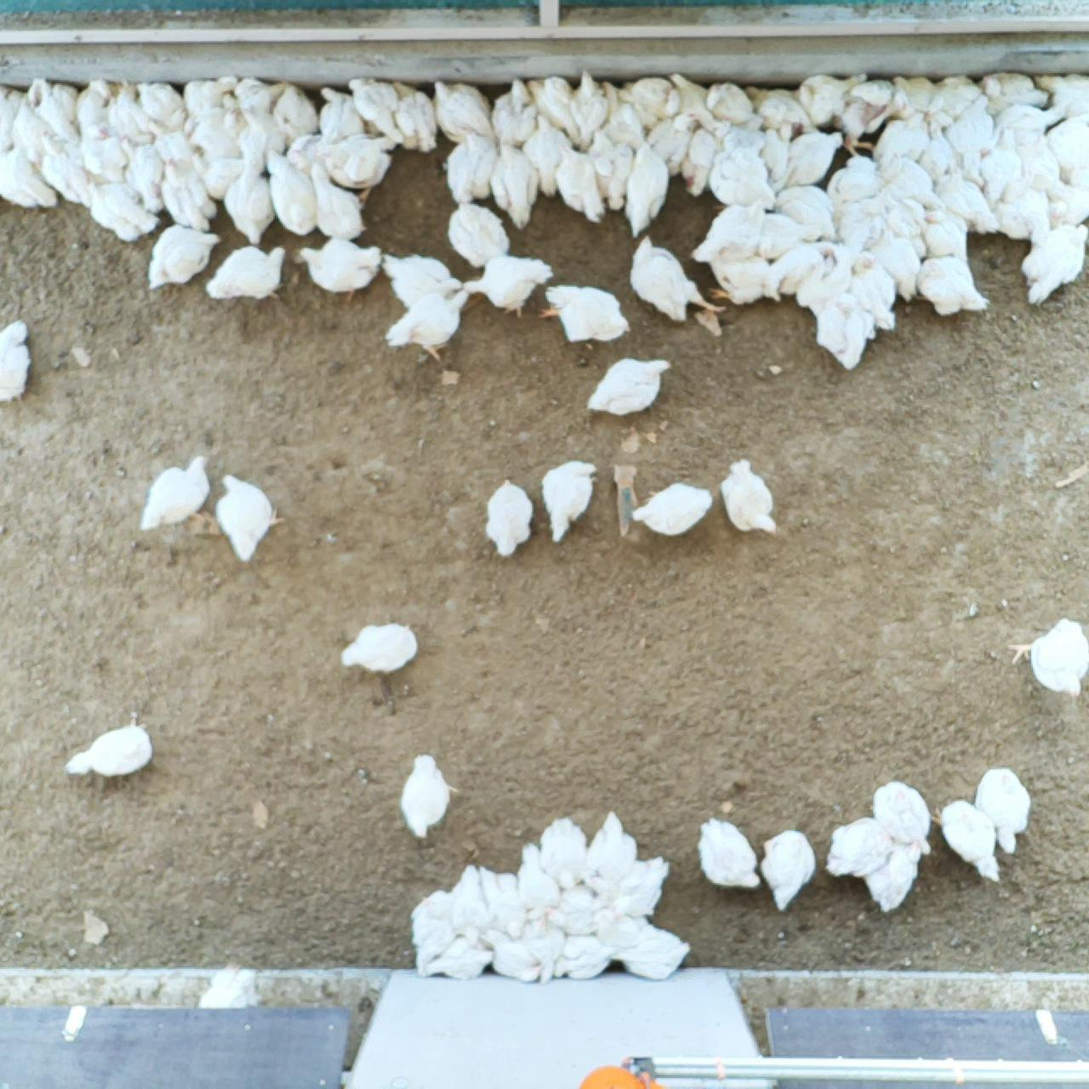chicken: (627, 235, 728, 321), (1006, 619, 1089, 698), (216, 474, 284, 565), (929, 800, 1001, 884), (383, 292, 469, 361), (137, 455, 211, 534), (462, 256, 554, 318), (1021, 223, 1089, 305), (538, 283, 631, 342), (232, 74, 321, 134), (64, 717, 152, 777), (299, 238, 381, 302), (403, 751, 460, 839), (225, 150, 277, 246), (838, 76, 902, 153), (975, 767, 1032, 853), (690, 196, 766, 259), (146, 226, 220, 290), (542, 462, 598, 543), (382, 251, 460, 309), (267, 150, 319, 236), (871, 780, 931, 854), (206, 245, 286, 300), (721, 459, 778, 536), (308, 161, 365, 238), (761, 830, 815, 911), (916, 257, 990, 316), (700, 817, 761, 888), (825, 816, 894, 878), (162, 156, 219, 231), (711, 144, 776, 209), (934, 167, 997, 234), (865, 839, 922, 913), (632, 483, 713, 535), (449, 200, 511, 267), (768, 241, 839, 299), (556, 141, 605, 225), (527, 68, 580, 145), (491, 143, 539, 228), (794, 66, 863, 125), (627, 143, 669, 238), (341, 622, 419, 673), (589, 809, 638, 888), (527, 111, 572, 197), (848, 252, 896, 332), (620, 926, 691, 980), (484, 479, 533, 557), (610, 853, 671, 915), (432, 79, 493, 141), (89, 187, 159, 241), (324, 135, 396, 187), (821, 295, 869, 373), (642, 112, 701, 175), (0, 149, 58, 212), (599, 75, 647, 150), (588, 125, 631, 208), (121, 139, 166, 214), (784, 131, 844, 187), (483, 866, 529, 939), (515, 839, 561, 912), (945, 95, 995, 162), (412, 888, 459, 959), (446, 134, 492, 206), (30, 73, 82, 136), (540, 819, 588, 887), (522, 909, 569, 978), (393, 80, 438, 152), (706, 257, 771, 306), (775, 185, 835, 238), (424, 935, 496, 979), (492, 78, 537, 148), (592, 896, 651, 949), (485, 932, 545, 984), (553, 933, 618, 981), (979, 127, 1020, 203), (42, 136, 86, 206), (838, 200, 896, 253), (876, 157, 939, 205), (667, 71, 719, 129), (755, 207, 811, 260), (747, 84, 809, 131), (628, 68, 679, 125), (187, 113, 244, 163), (873, 111, 930, 161), (551, 884, 605, 935), (681, 128, 720, 196), (76, 132, 126, 185), (317, 85, 365, 140), (349, 77, 396, 133), (571, 66, 608, 135), (450, 864, 487, 932), (0, 318, 29, 403), (831, 155, 877, 208), (11, 99, 48, 164), (1019, 131, 1060, 188), (993, 103, 1066, 135), (1036, 71, 1089, 115), (111, 78, 151, 136), (146, 117, 195, 164), (924, 209, 969, 260), (142, 70, 186, 122), (984, 73, 1048, 108), (706, 75, 754, 121), (894, 68, 946, 110), (1050, 116, 1089, 171), (1046, 178, 1089, 225), (917, 124, 952, 179), (79, 79, 112, 136), (184, 75, 237, 110), (930, 75, 978, 112), (885, 197, 929, 237), (0, 83, 24, 151)
